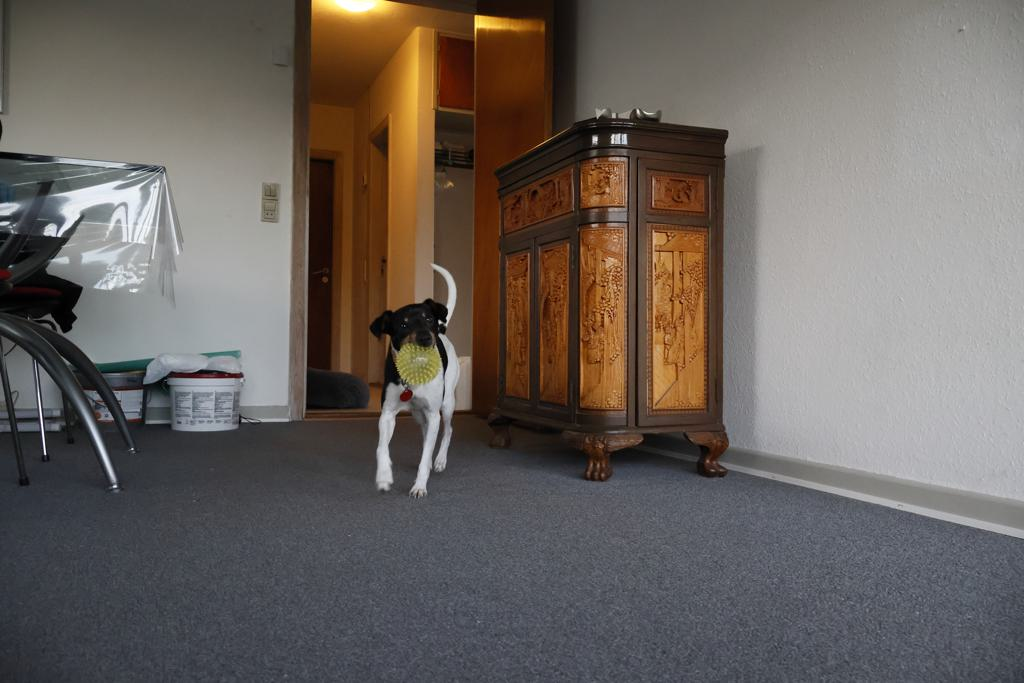Dog: (366, 258, 463, 503)
